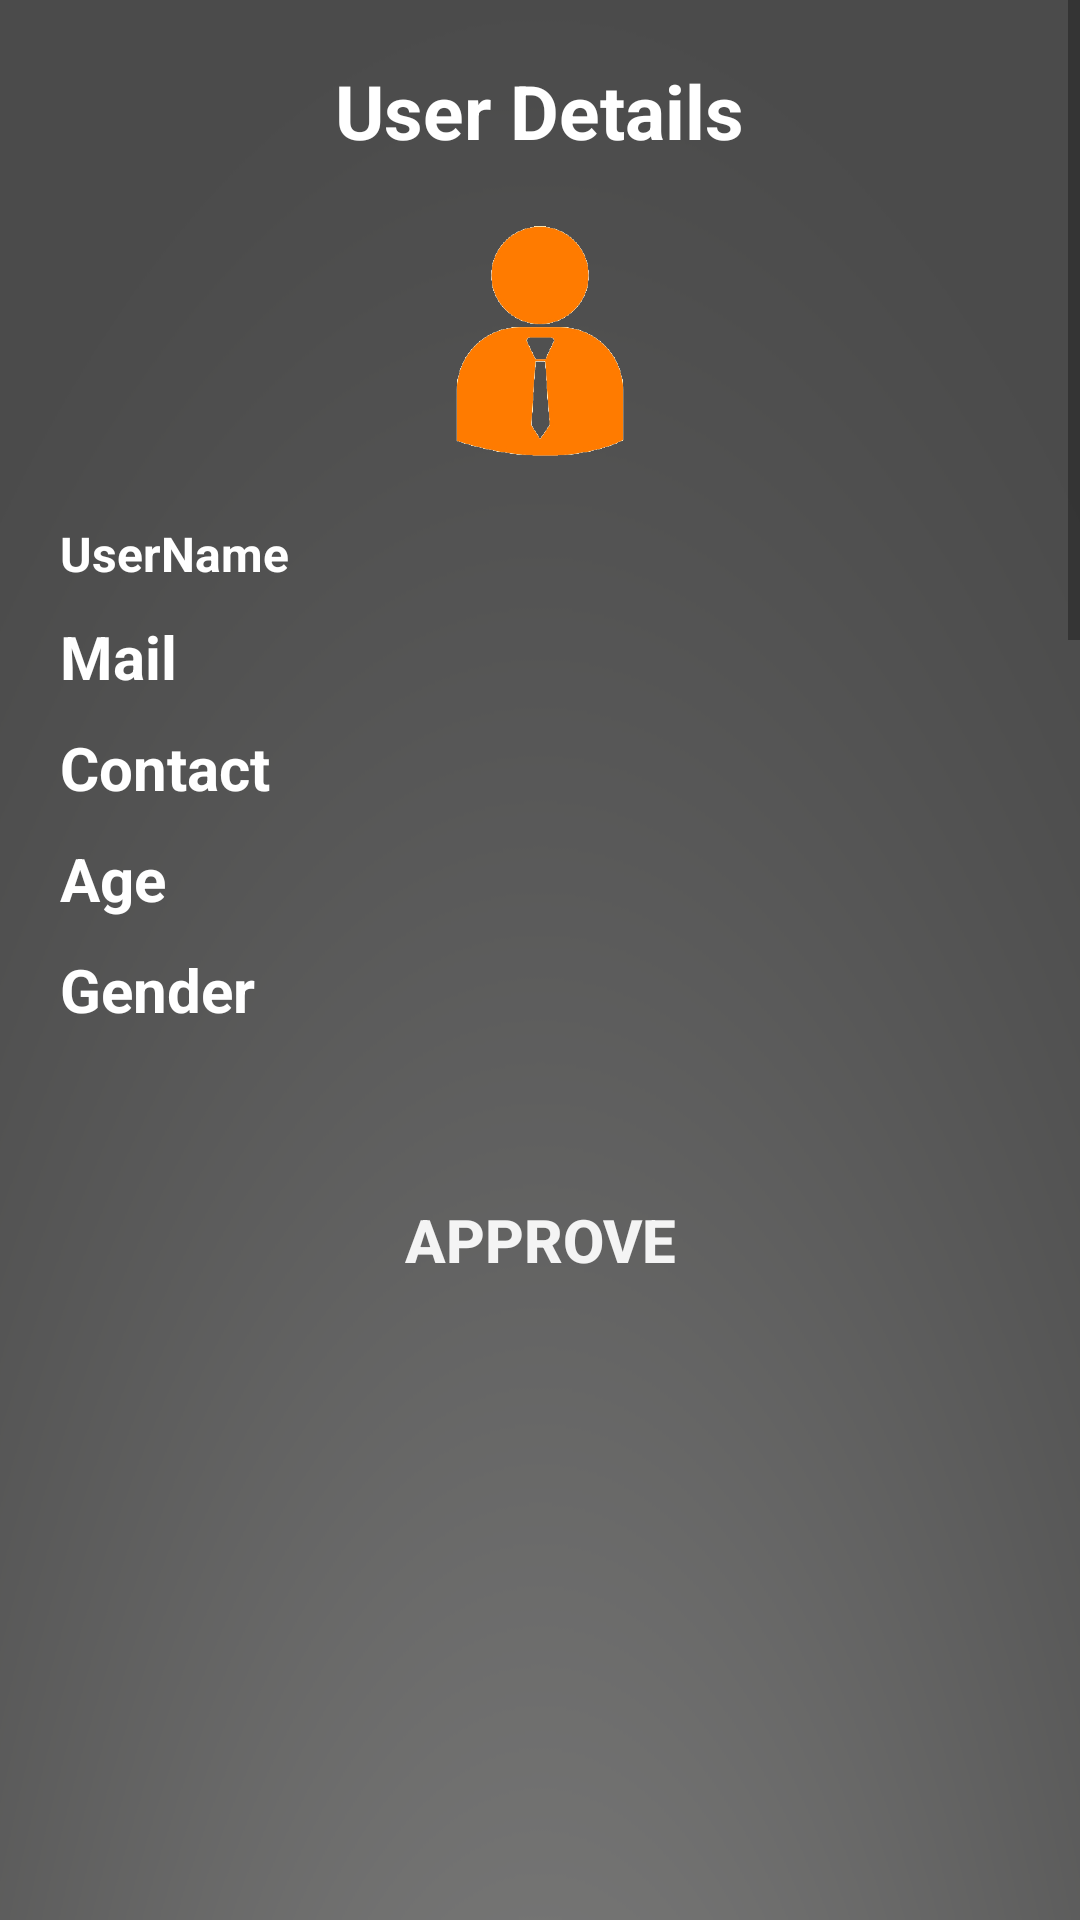

Where icons sit on this 1080 x 1920 app screen, as (x1, y1, x2, y2):
candidate: (456, 226, 624, 456)
